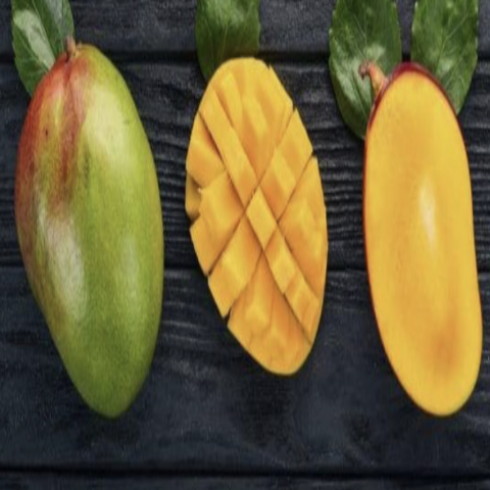mango: (9, 23, 172, 435), (177, 54, 331, 431), (348, 41, 489, 425)
